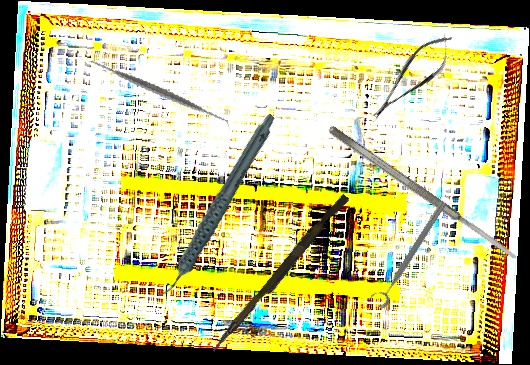Fixation Ring: (367, 195, 450, 311)
Handpiece: (122, 111, 309, 301)
Micro Scissor: (360, 25, 464, 129)
Pusher: (210, 190, 350, 358)
Spatula Surgical: (326, 123, 521, 265), (88, 21, 231, 162)
